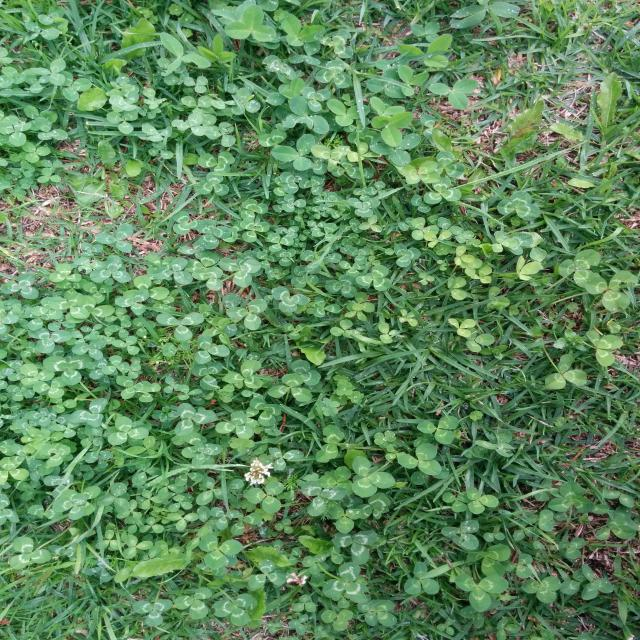Four Leaf Clover: (401, 160, 441, 184)
